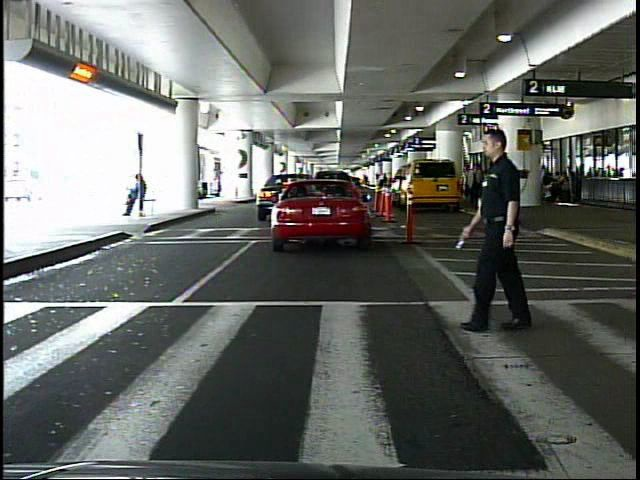person: (471, 129, 531, 334)
